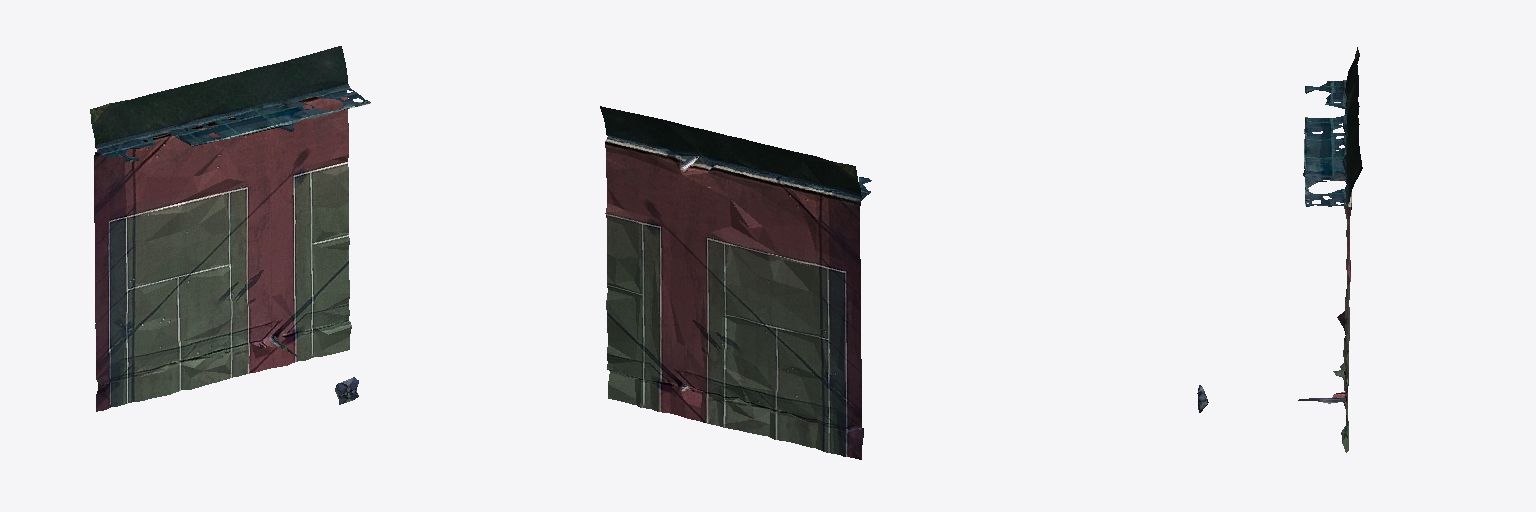
3 views of the same model, side by side, from view 1: azimuth 30°, elevation 25°; view 2: azimuth 150°, elevation 25°; view 3: azimuth 270°, elevation 25° (orthographic).
Visible parts, largest first — view 1: obj_0; view 2: obj_0; view 3: obj_0.
Part boxes in pixels (left/top/right/bottom): obj_0: left=90, top=46, right=370, bottom=411; obj_0: left=600, top=106, right=871, bottom=459; obj_0: left=1197, top=47, right=1362, bottom=452.
Bounding box in the file's own units: 20.08 × 22.53 × 11.3.
1 materials, 1 textured.